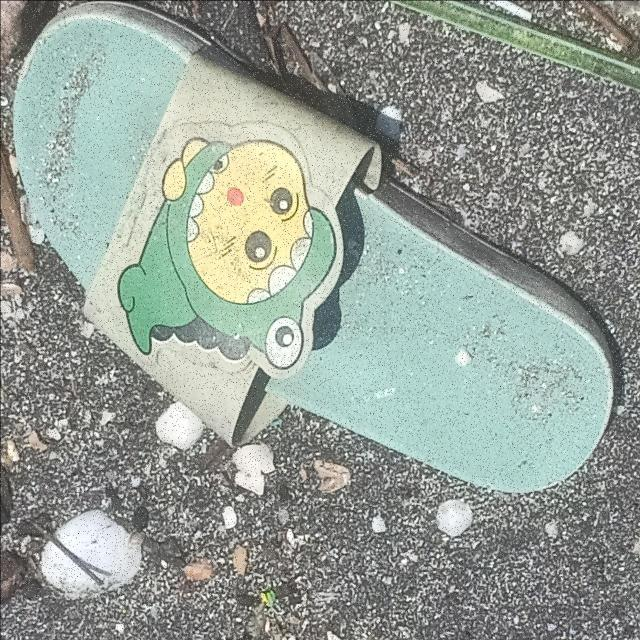plastic_waste: (391, 1, 640, 99)
rubber_waste: (7, 10, 622, 491)
